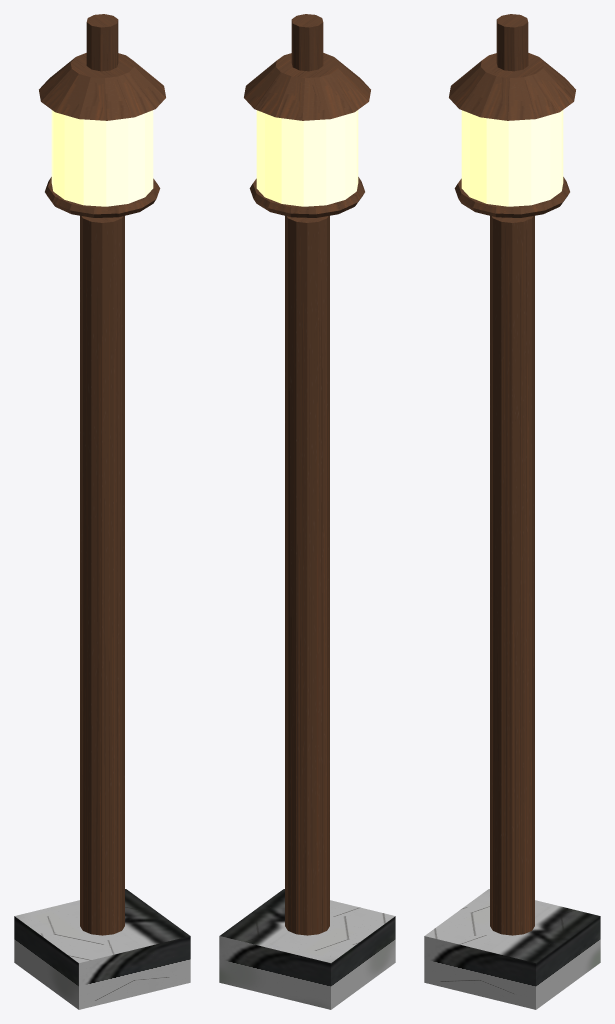
File: duong-ray-den-ga.glb
3 views of the same model, side by side, from view 1: azimuth 30°, elevation 25°; view 2: azimuth 150°, elevation 25°; view 3: azimuth 330°, elevation 25° (orthographic).
Visible parts, largest first — view 1: duong-ray-den-ga; view 2: duong-ray-den-ga; view 3: duong-ray-den-ga.
Boxes of the visible parts, box(x1,y1,x2,y2) form: duong-ray-den-ga: box(14, 14, 190, 1009); duong-ray-den-ga: box(219, 14, 395, 1009); duong-ray-den-ga: box(424, 14, 600, 1009).
Size of the model in its own units: 0.4 by 3.26 by 0.4.
3 materials, 2 textured.
